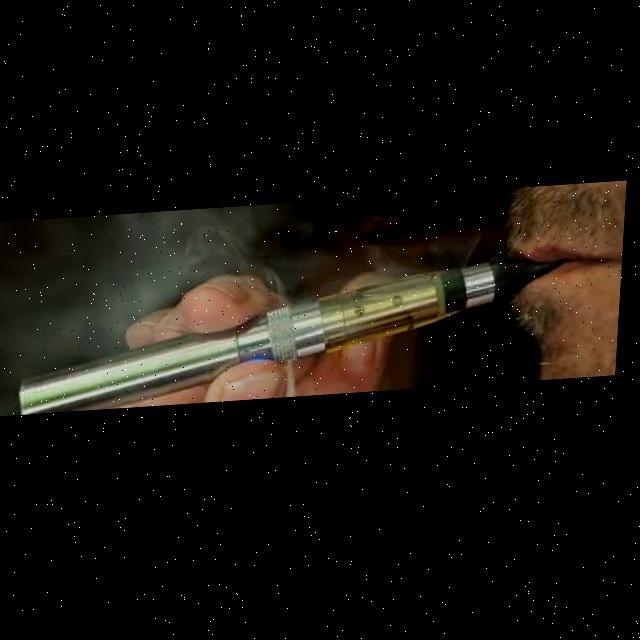vape: (13, 258, 567, 416)
